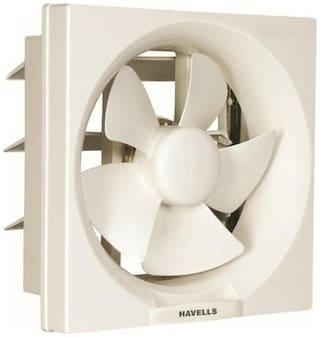fan: (70, 23, 293, 314)
